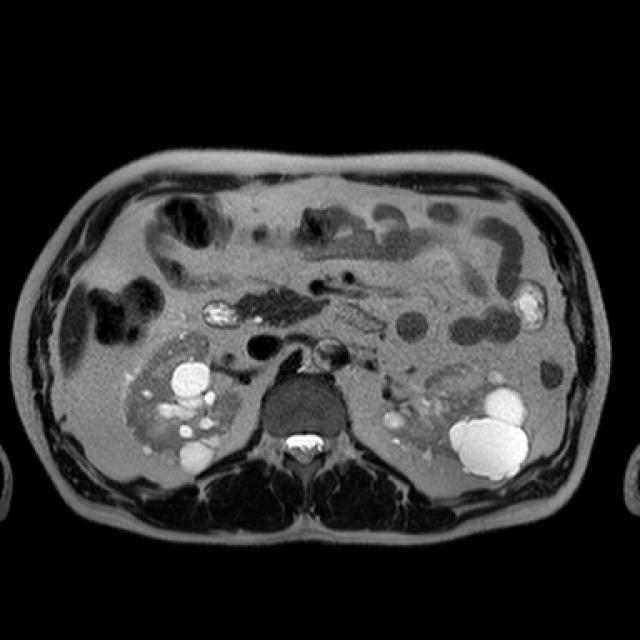sag: (119, 327, 243, 477)
sol: (380, 360, 532, 483)
